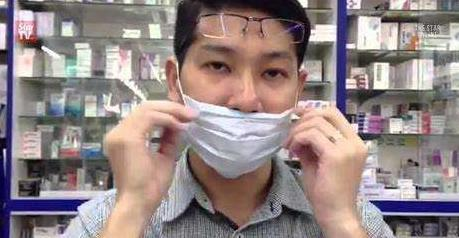WRONG: (180, 26, 297, 177)
